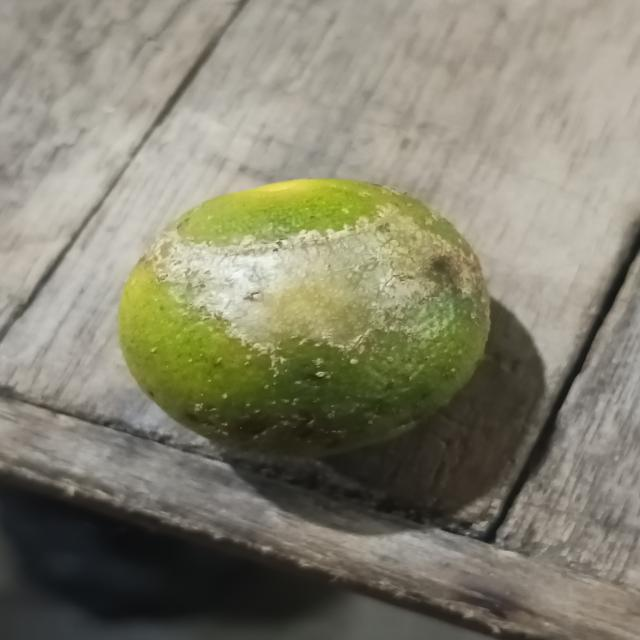thrips: (128, 173, 493, 450)
